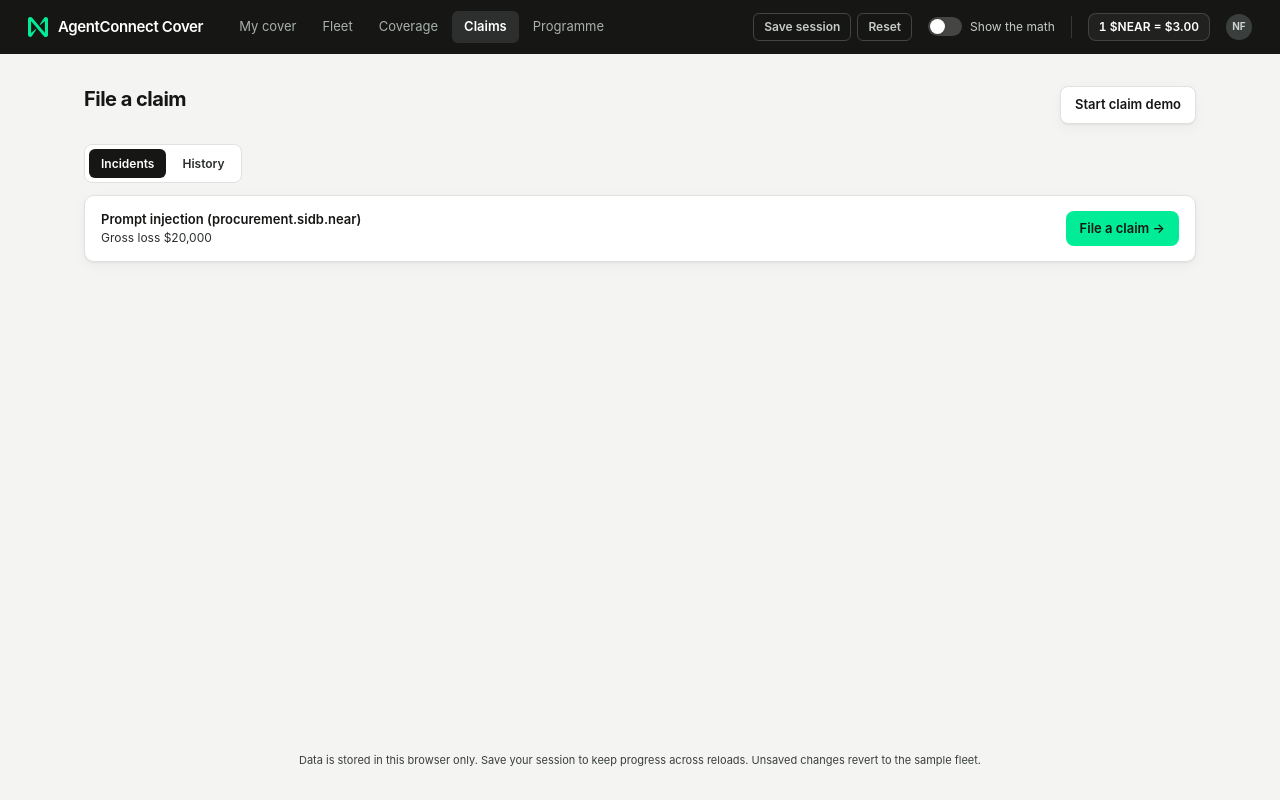
history tab › shows the empty state when no claims exist yet
Click the tab with test id "claims-tab-history".
click(204, 163)  # box [170,148,237,178]
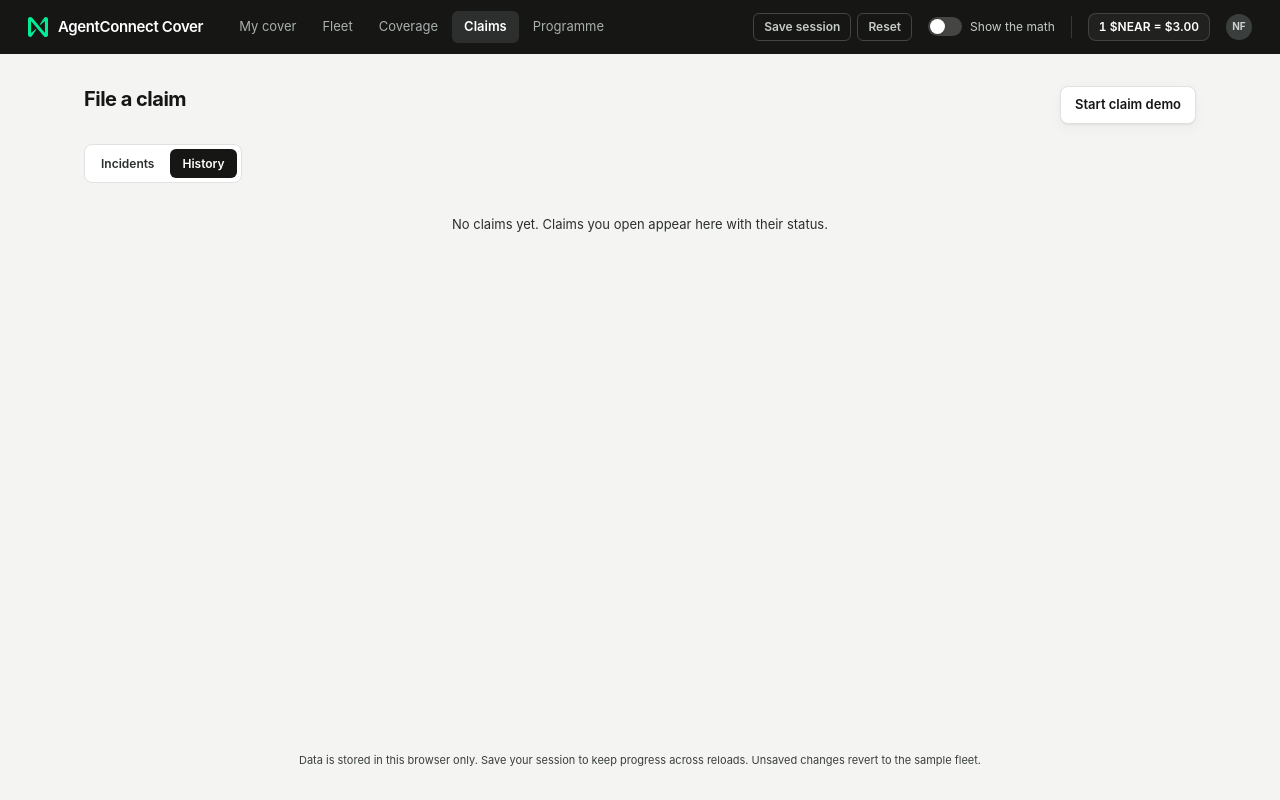
Now the text with test id "claim-history-empty" is shown, box [452,216,828,232]
Now the element with test id "incident-inbox" is gone
